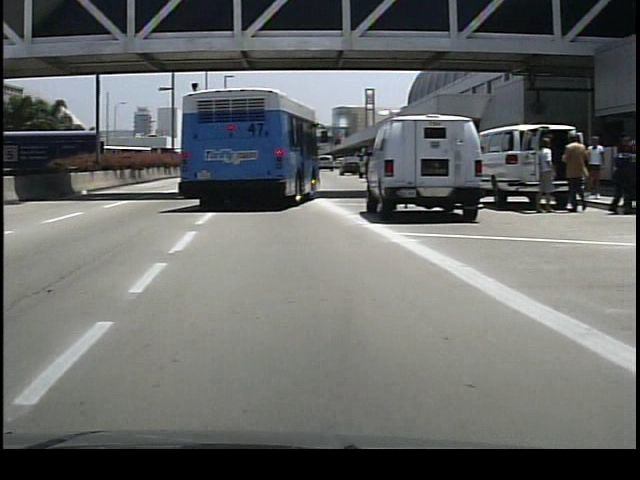person: (555, 130, 586, 216), (529, 133, 553, 216)
